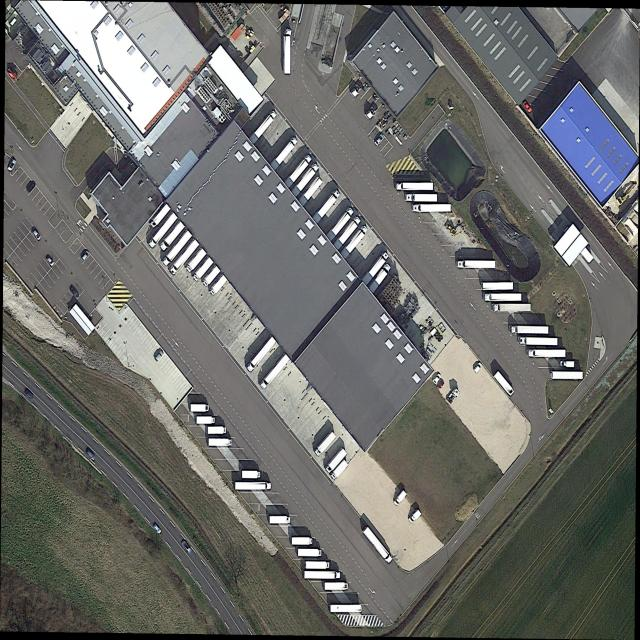large-vehicle: (161, 229, 193, 267), (362, 526, 393, 564), (246, 336, 277, 373), (260, 354, 290, 391), (169, 238, 199, 275), (312, 188, 341, 225), (149, 212, 178, 249), (283, 154, 313, 189), (339, 224, 368, 260), (333, 215, 361, 252), (291, 162, 319, 198), (326, 206, 354, 242), (249, 109, 277, 144), (361, 251, 389, 286), (270, 136, 298, 170), (159, 220, 186, 252), (368, 262, 391, 295), (325, 447, 348, 474), (314, 431, 336, 458), (493, 370, 515, 397), (186, 246, 207, 274), (149, 203, 171, 229), (192, 256, 213, 283), (202, 264, 221, 288), (209, 274, 228, 297), (331, 460, 349, 481), (456, 260, 496, 269), (518, 336, 558, 345), (483, 293, 522, 302), (395, 182, 433, 191), (304, 571, 341, 580), (284, 27, 291, 73), (526, 349, 566, 357), (492, 304, 531, 312), (510, 326, 549, 334), (412, 204, 451, 212), (405, 193, 437, 201), (394, 489, 407, 507), (324, 582, 349, 591), (306, 560, 330, 569), (297, 548, 321, 557), (409, 508, 422, 524), (269, 515, 290, 524), (291, 537, 313, 545), (560, 360, 575, 368)
small-vehicle: (179, 537, 192, 555), (83, 445, 96, 462), (372, 132, 385, 148), (68, 283, 81, 299), (522, 99, 534, 115), (23, 386, 35, 401), (6, 157, 17, 173), (31, 225, 42, 241), (431, 372, 442, 387), (25, 180, 36, 195), (154, 348, 165, 362), (473, 361, 483, 376), (45, 252, 55, 267), (80, 248, 90, 263), (152, 521, 162, 535)
